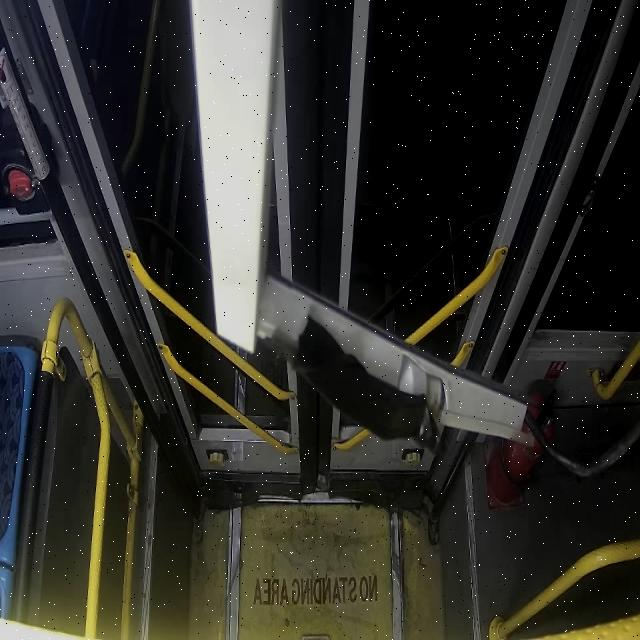close: (61, 1, 564, 487)
